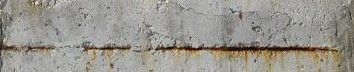Exposed reinforcement: (155, 45, 340, 53), (82, 43, 132, 54), (1, 45, 56, 51)
